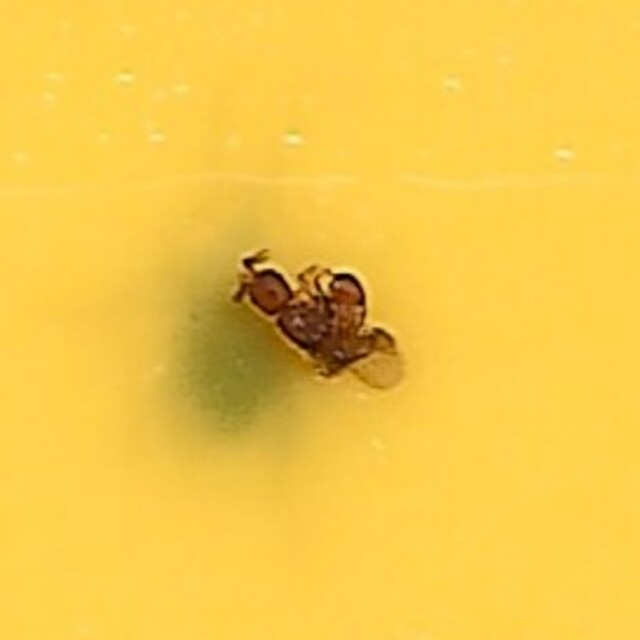Hymenoptera: (234, 244, 406, 396)
